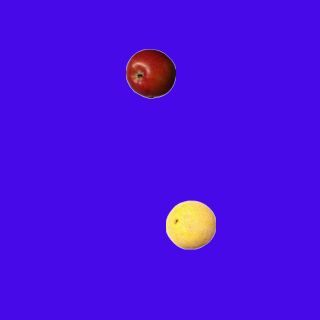Apple Braeburn: (125, 48, 175, 98)
Cantaloupe 1: (165, 199, 215, 249)
